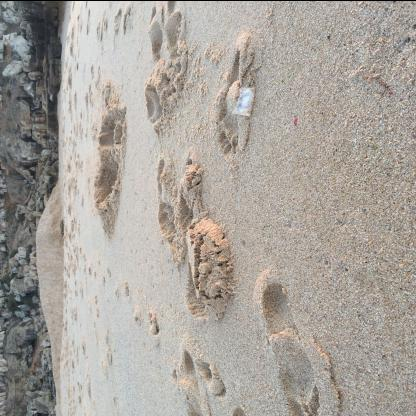plastik: (231, 86, 257, 116)
